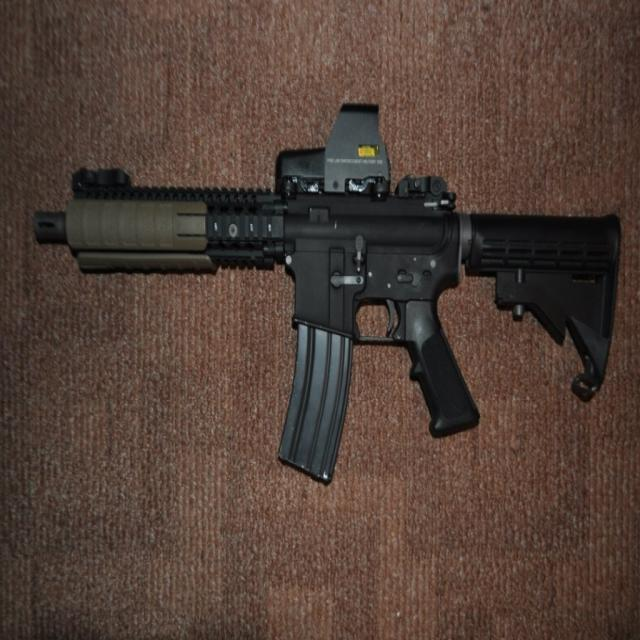firearm: (32, 101, 622, 488)
